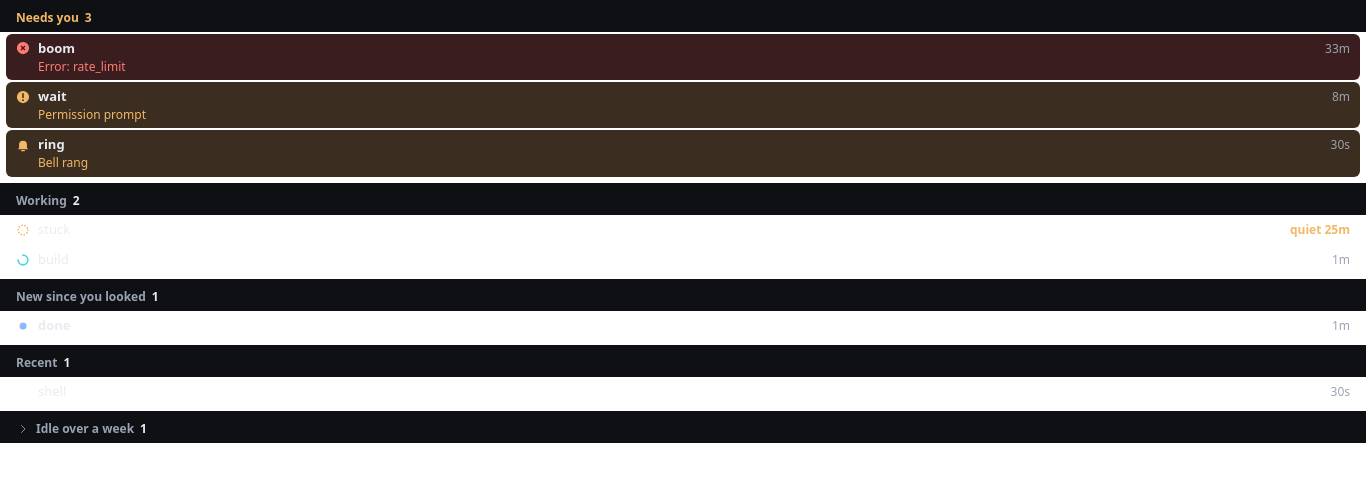
Test: SessionList › groups sessions under Needs you, Working, New, Recent and a collapsed Idle, each with a count
Check: the headings read "Needs you 3", "Working 2", "New since you looked 1", "Recent 1", "Idle over a week 1", in this order, box [0,0,1365,32]; [0,183,1365,215]; [0,279,1365,311]; [0,345,1365,377]; [0,411,1365,443]
Check: the button "stuck quiet 25m" is shown, box [6,215,1360,245]
Click the button "Idle over a week 1": (84, 429) [16,418,153,439]
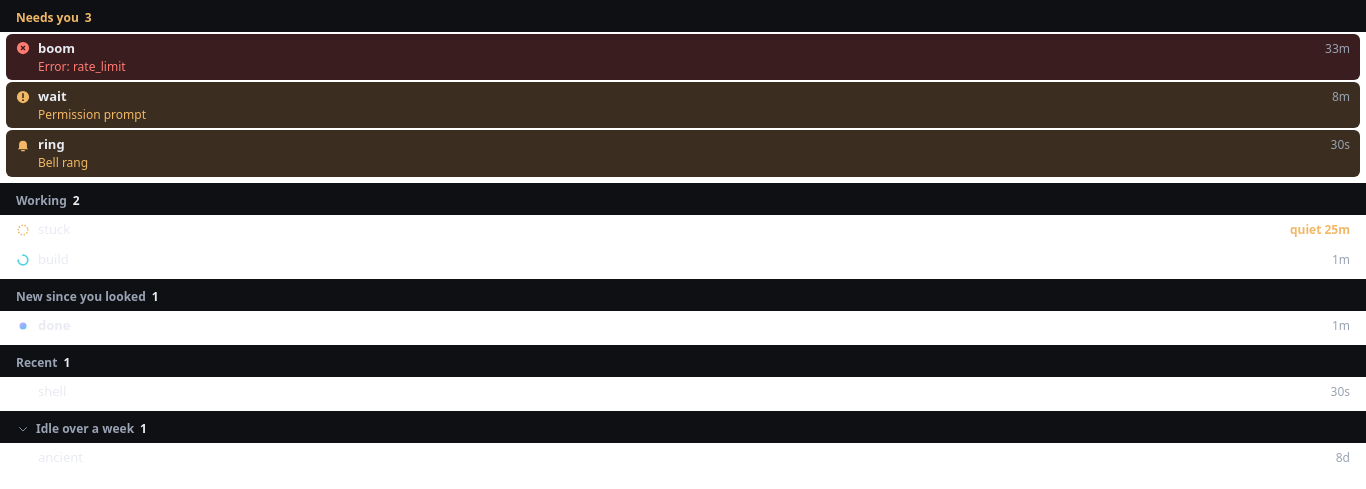
Check: the button "ancient 8d" is shown, box [6,443,1360,473]
